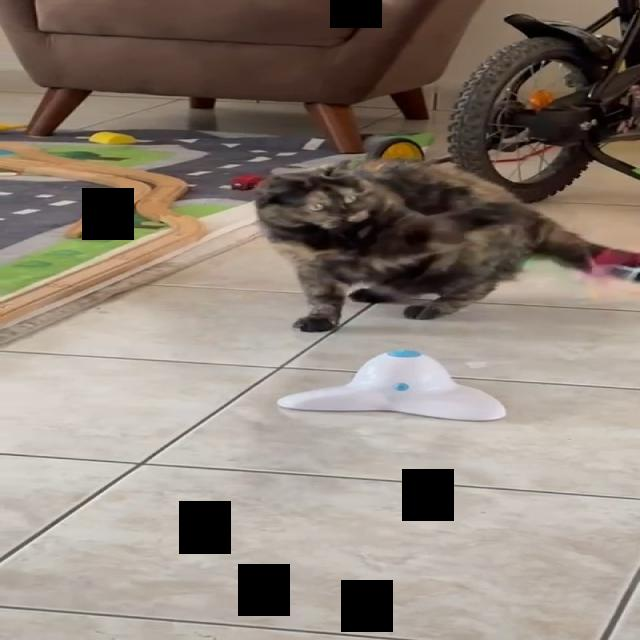authorized: (252, 156, 635, 333)
